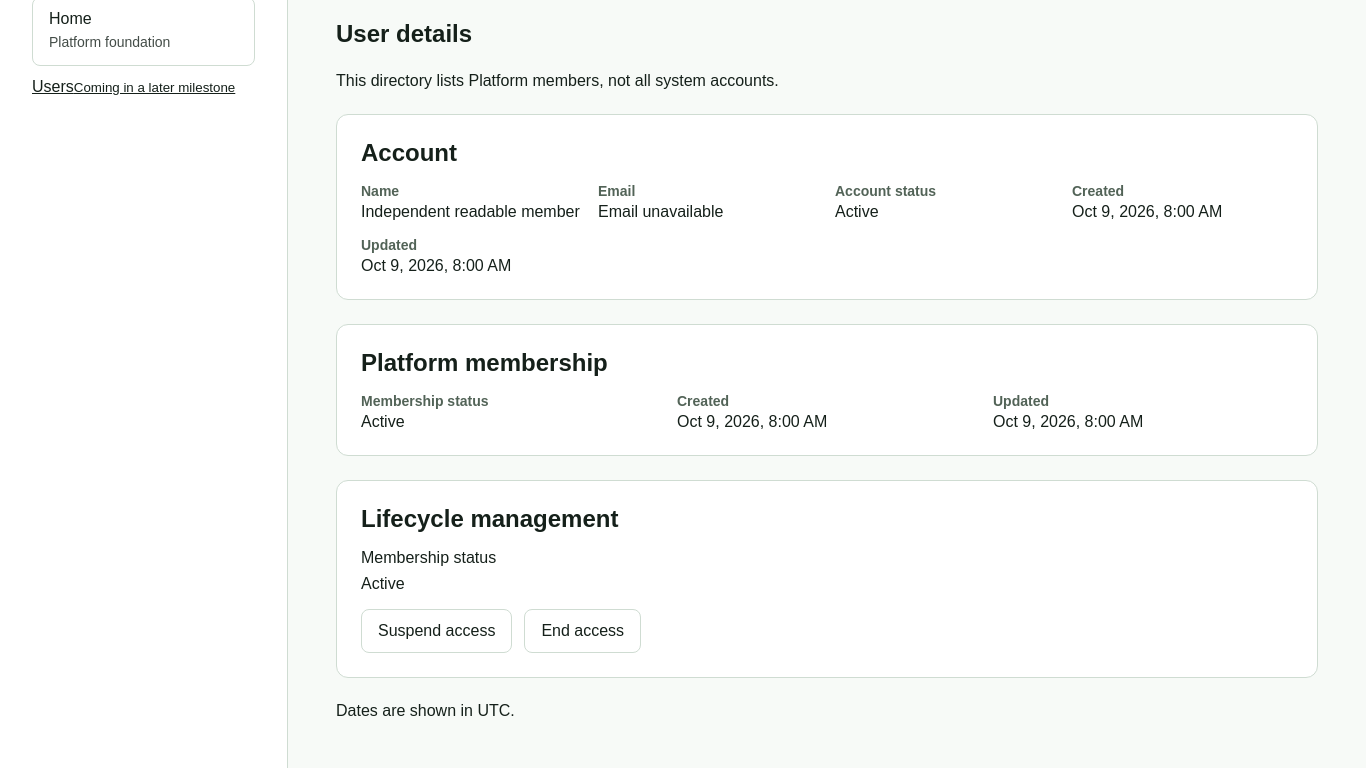
it: Platform shell › actual shell expiry retires lifecycle and ignores late GET while READ is renewed
(page scrolled)
Click the button "Suspend access". click: (437, 631)
box: [361, 609, 512, 653]
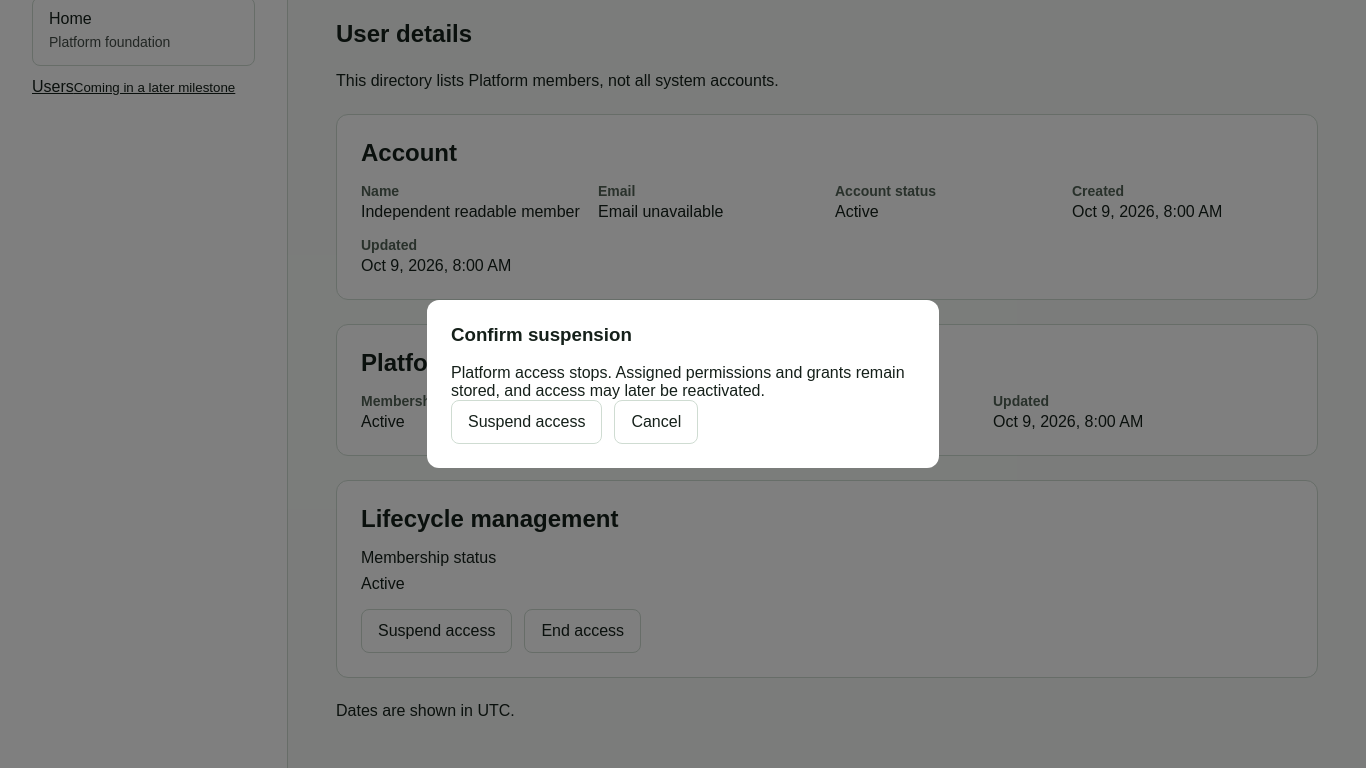
Click the button "Cancel". click: (656, 422)
box: [614, 400, 698, 444]
(page scrolled)
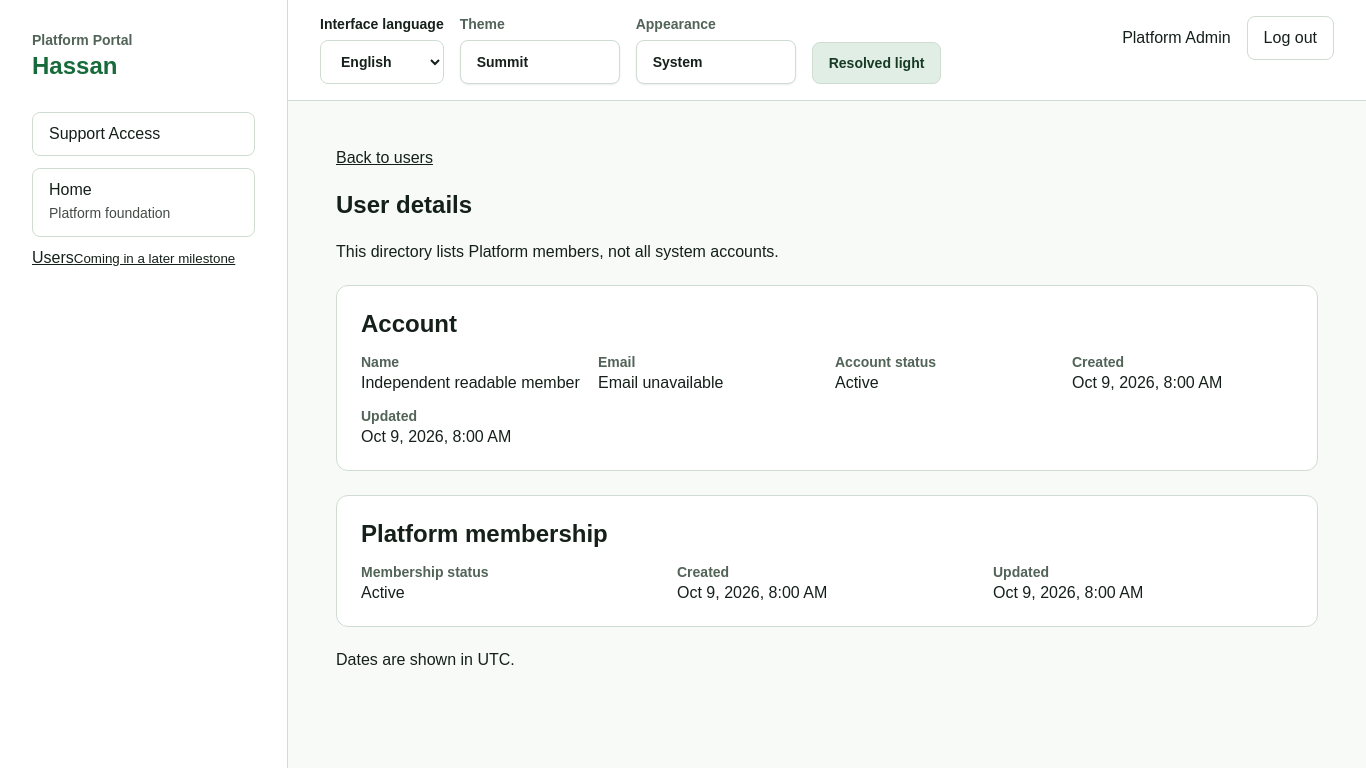
Expected: the text "Independent readable member" is shown, [361, 374, 582, 392]
Result: the button "Suspend access" is gone
